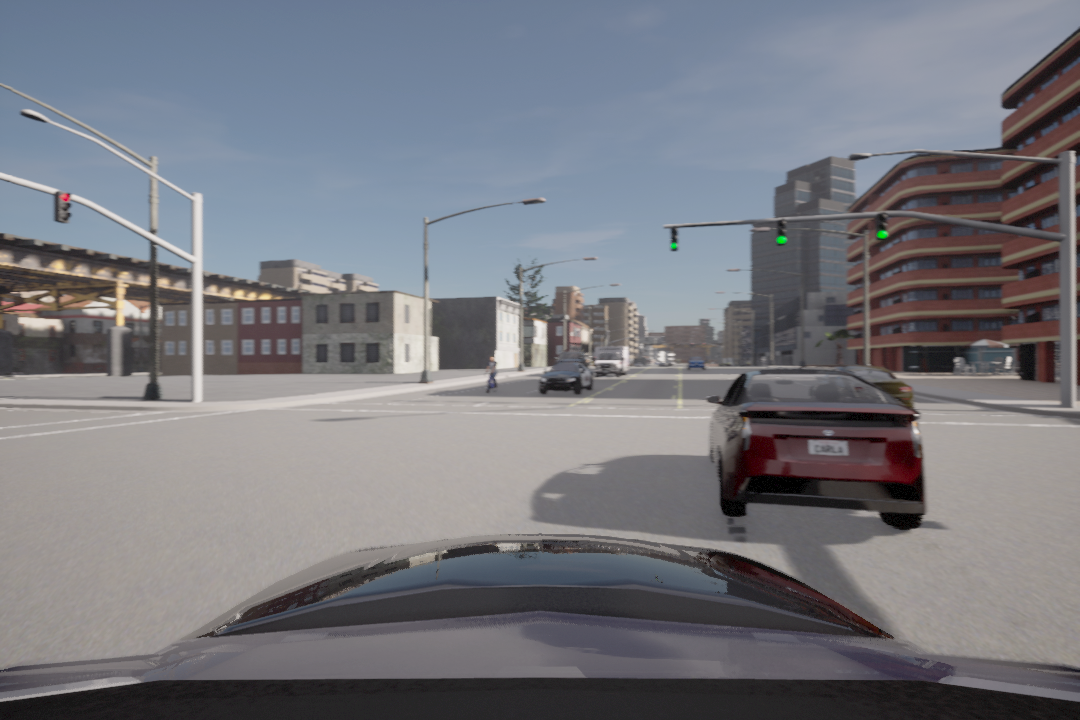TrafficLight: (48, 190, 77, 228), (771, 215, 791, 251), (874, 210, 892, 241), (668, 227, 684, 257)
